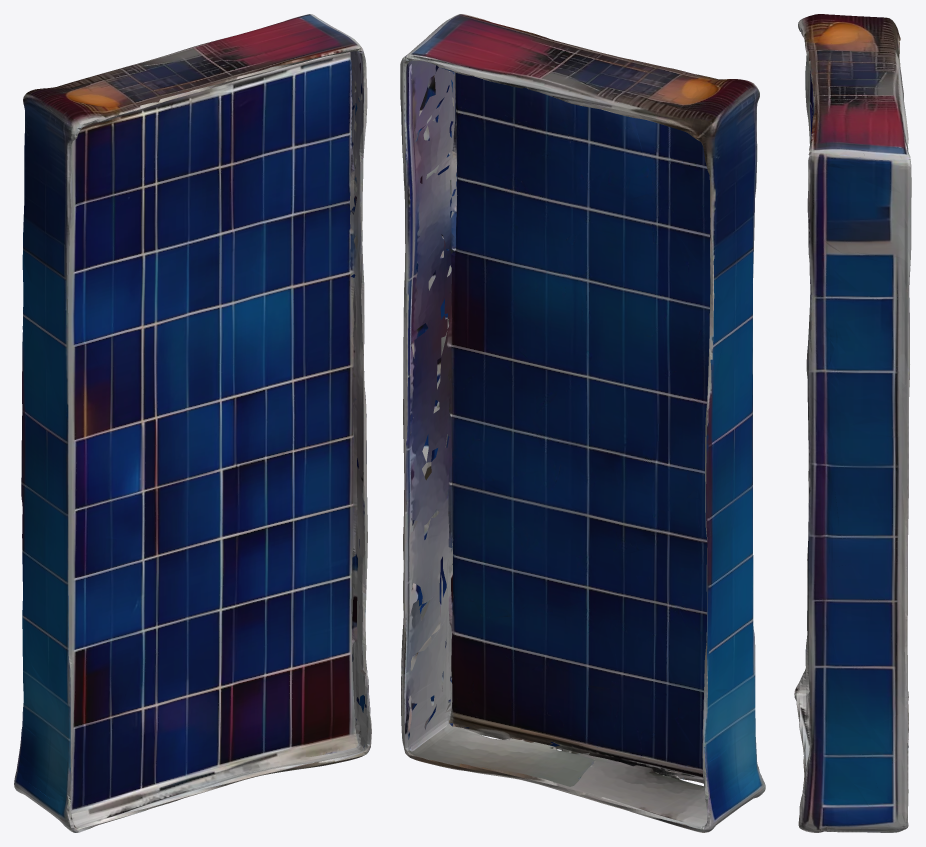
File: emcar-victron-175.glb
3 renders of one model, left to right at view 1: azimuth 30°, elevation 25°; view 2: azimuth 150°, elevation 25°; view 3: azimuth 270°, elevation 25°, orthographic. The views are drawn at different scales.
Visible parts, largest first — view 1: demo_textured.obj; view 2: demo_textured.obj; view 3: demo_textured.obj.
Part boxes in pixels (x1,y1,x2,y2): demo_textured.obj: [14, 14, 371, 832]; demo_textured.obj: [400, 14, 765, 832]; demo_textured.obj: [794, 14, 911, 832].
Bounding box in the file's own units: 0.8979 × 1.99 × 0.3075.
1 material, 1 textured.
